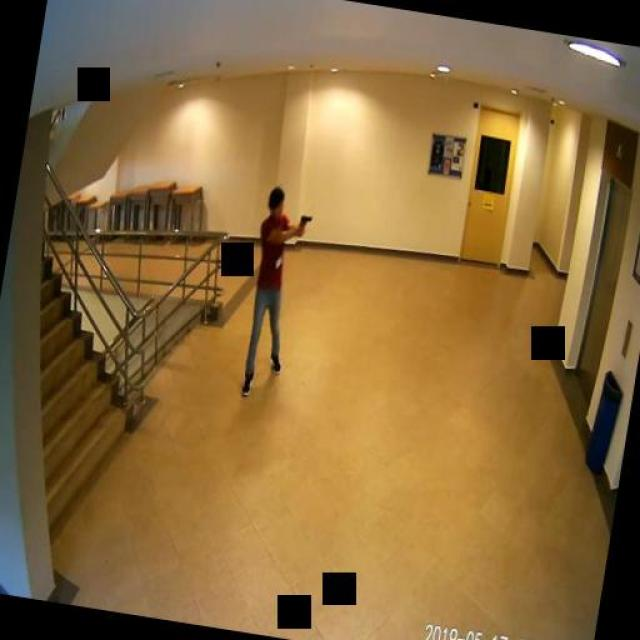gun: (295, 211, 310, 234)
